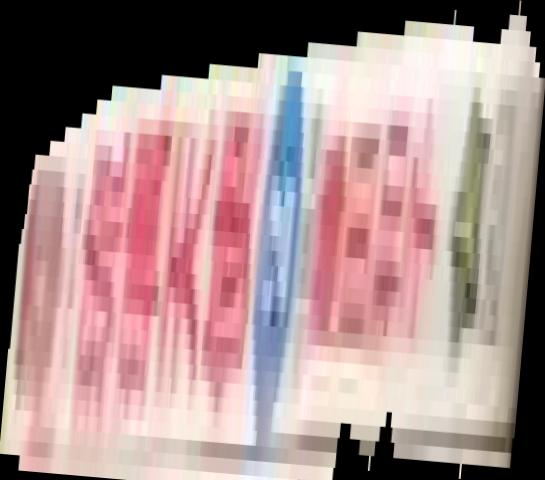flat: (1, 1, 545, 480)
